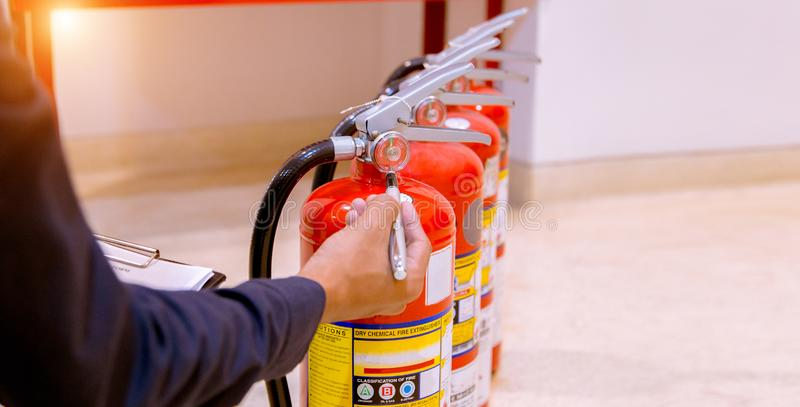fire_extinguisher: (248, 6, 541, 406)
